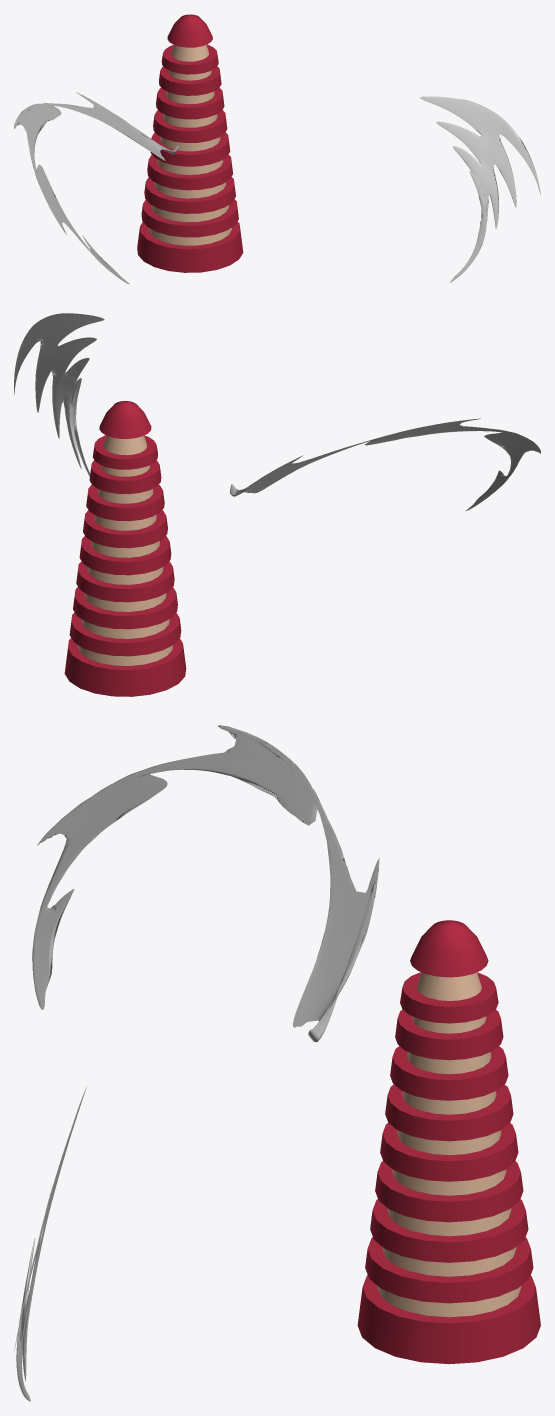
File: egstra.fbx
3 renders of one model, top to bottom at view 1: azimuth 30°, elevation 25°; view 2: azimuth 150°, elevation 25°; view 3: azimuth 270°, elevation 25°, orthographic. The views are drawn at different scales.
Parts seen in each view (by area): view 1: pCylinder54, pCube350, pCube351; view 2: pCylinder54, pCube350, pCube351; view 3: pCylinder54, pCube351, pCube350.
Boxes of the visible parts, <box> form: pCylinder54: <box>137,14,243,272</box>; pCube350: <box>419,96,540,282</box>; pCube351: <box>14,92,178,284</box>; pCylinder54: <box>64,401,186,696</box>; pCube350: <box>14,313,104,476</box>; pCube351: <box>229,418,540,510</box>; pCylinder54: <box>357,920,540,1364</box>; pCube351: <box>32,725,379,1042</box>; pCube350: <box>14,1086,86,1401</box>.
Bounding box in the file's own units: 117 × 55.57 × 66.02.
